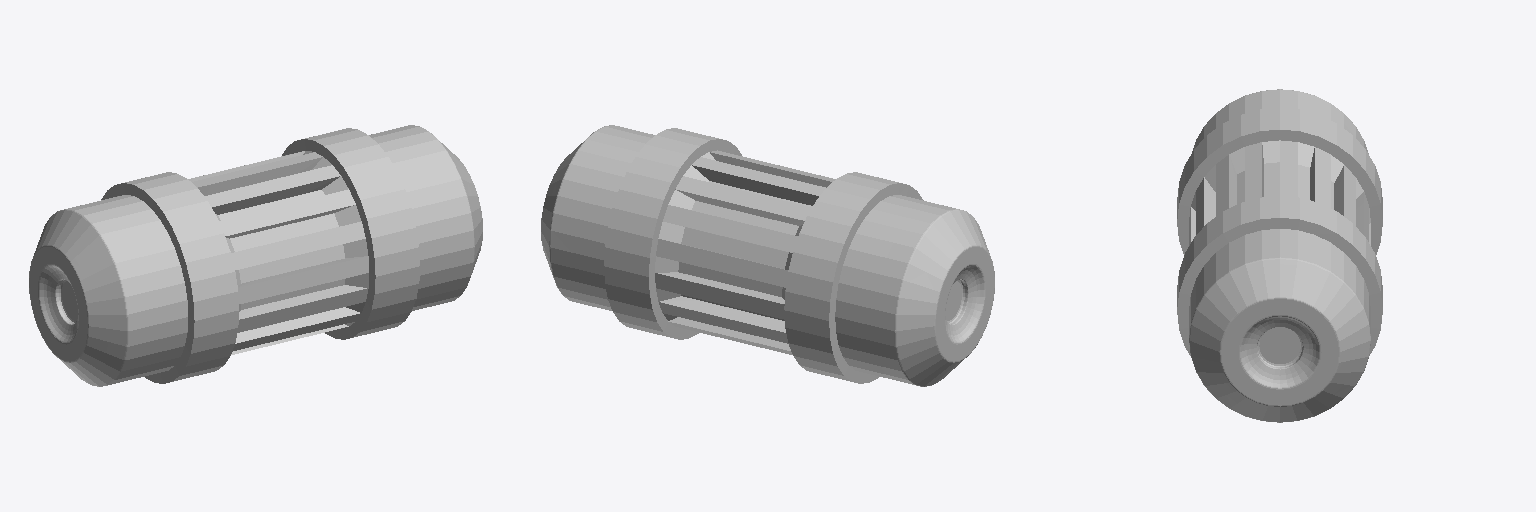
Rendered from balbula2.OBJ.
The picture shows the model from 3 angles: view 1: azimuth 30°, elevation 25°; view 2: azimuth 150°, elevation 25°; view 3: azimuth 270°, elevation 25°; orthographic projection.
Parts seen in each view (by area): view 1: Group25492; view 2: Group25492; view 3: Group25492.
Boxes of the visible parts, x1=… form: Group25492: x1=29, y1=125, x2=482, y2=386; Group25492: x1=541, y1=125, x2=994, y2=386; Group25492: x1=1177, y1=89, x2=1382, y2=422.
Bounding box in the file's own units: 3.95 × 1.78 × 1.78.